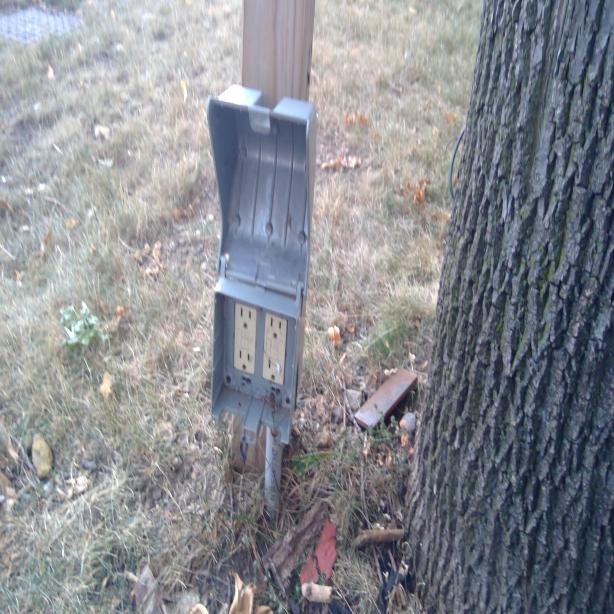typeb: (237, 301, 255, 333), (268, 314, 286, 345), (236, 347, 254, 377), (266, 357, 280, 381)
